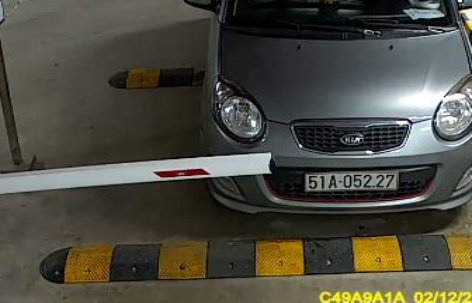plate: (298, 171, 400, 192)
